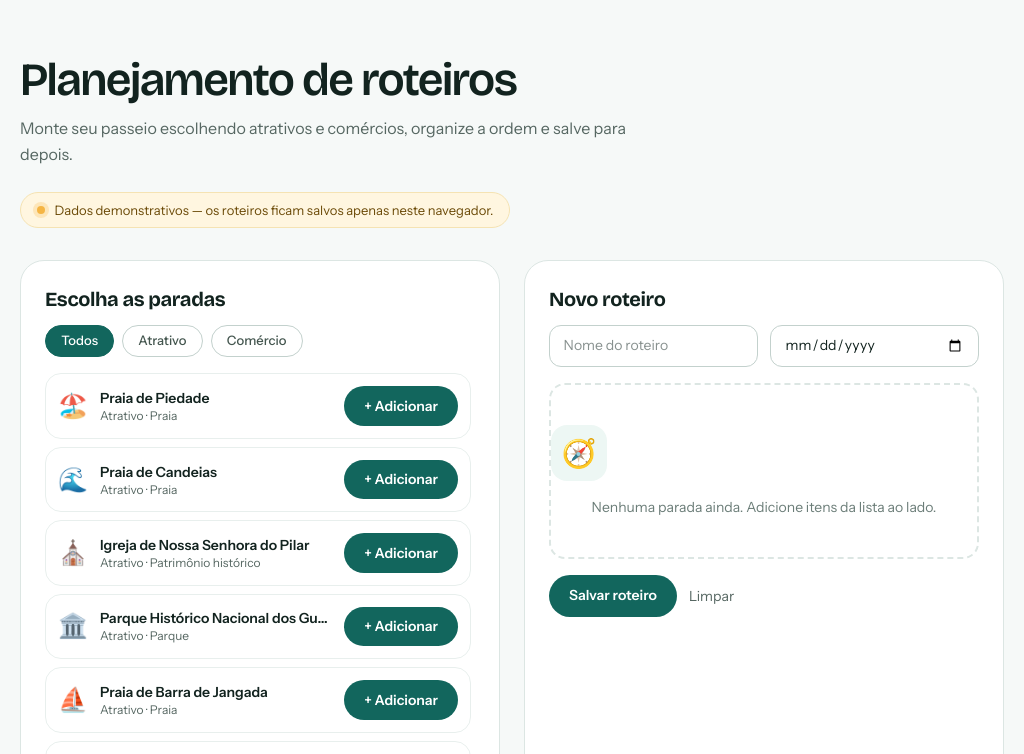
Test: Tela de Roteiros › remove uma parada do roteiro
This screenshot has width=1024, height=754.
Click the button "+ Adicionar" next to "Praia de Piedade".
click(401, 406)  # box [344, 386, 458, 426]
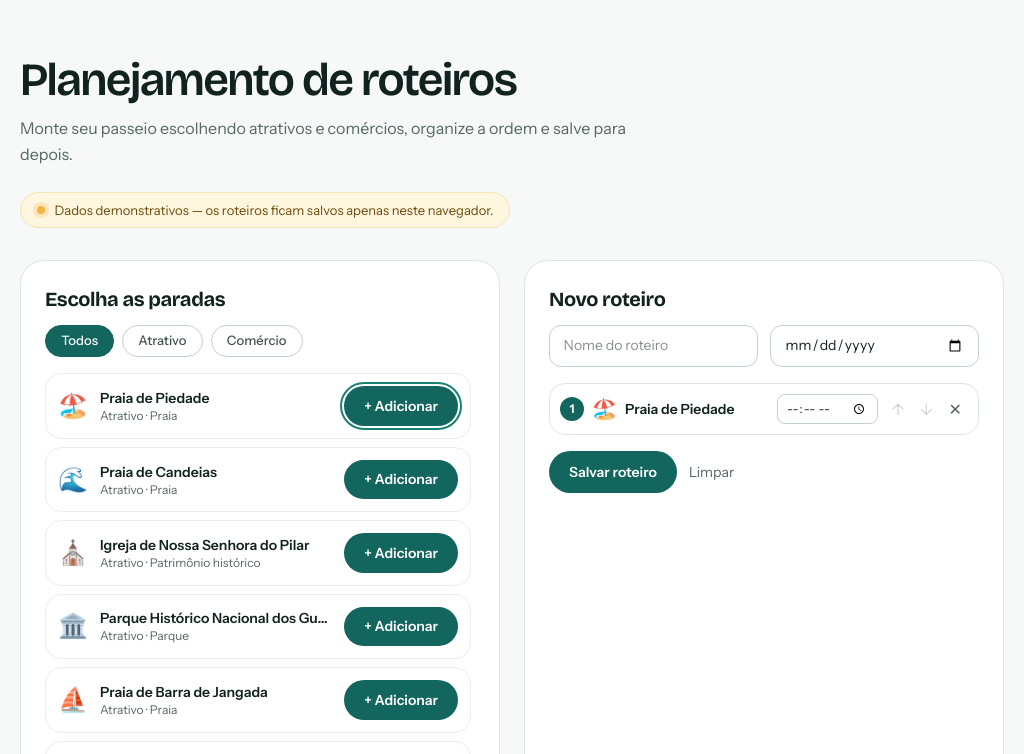
Click the button named "Remover".
click(955, 409)  # box [943, 397, 968, 421]
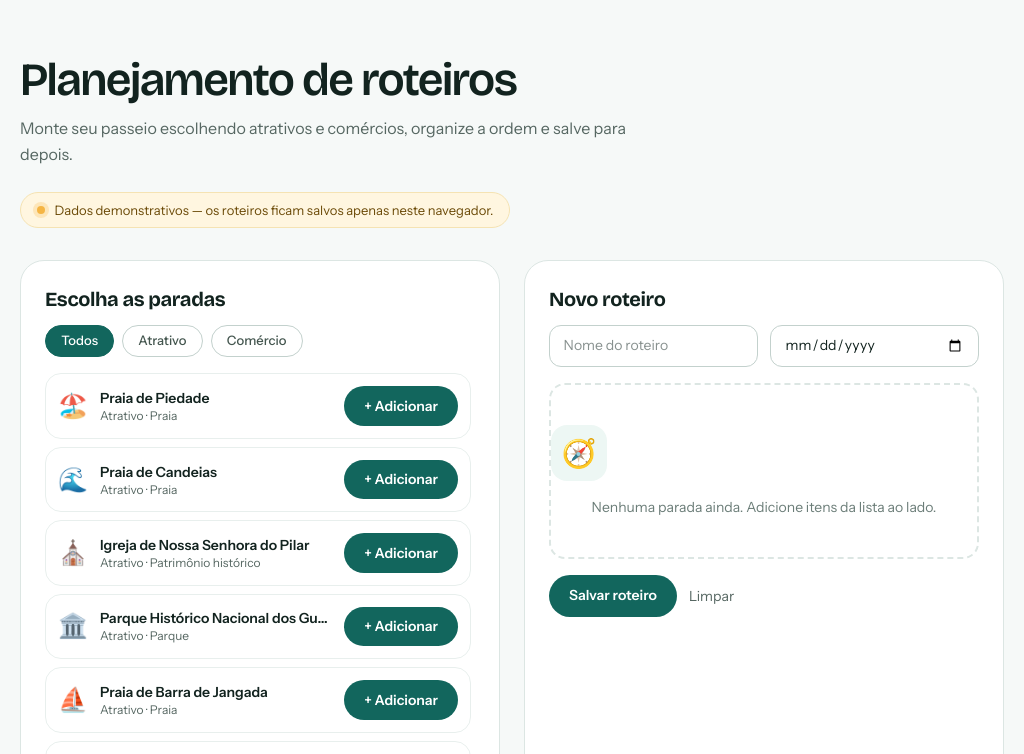
Expected: the text "🧭 Nenhuma parada ainda. Adicione itens da lista ao lado." is shown, [549, 383, 979, 559]
